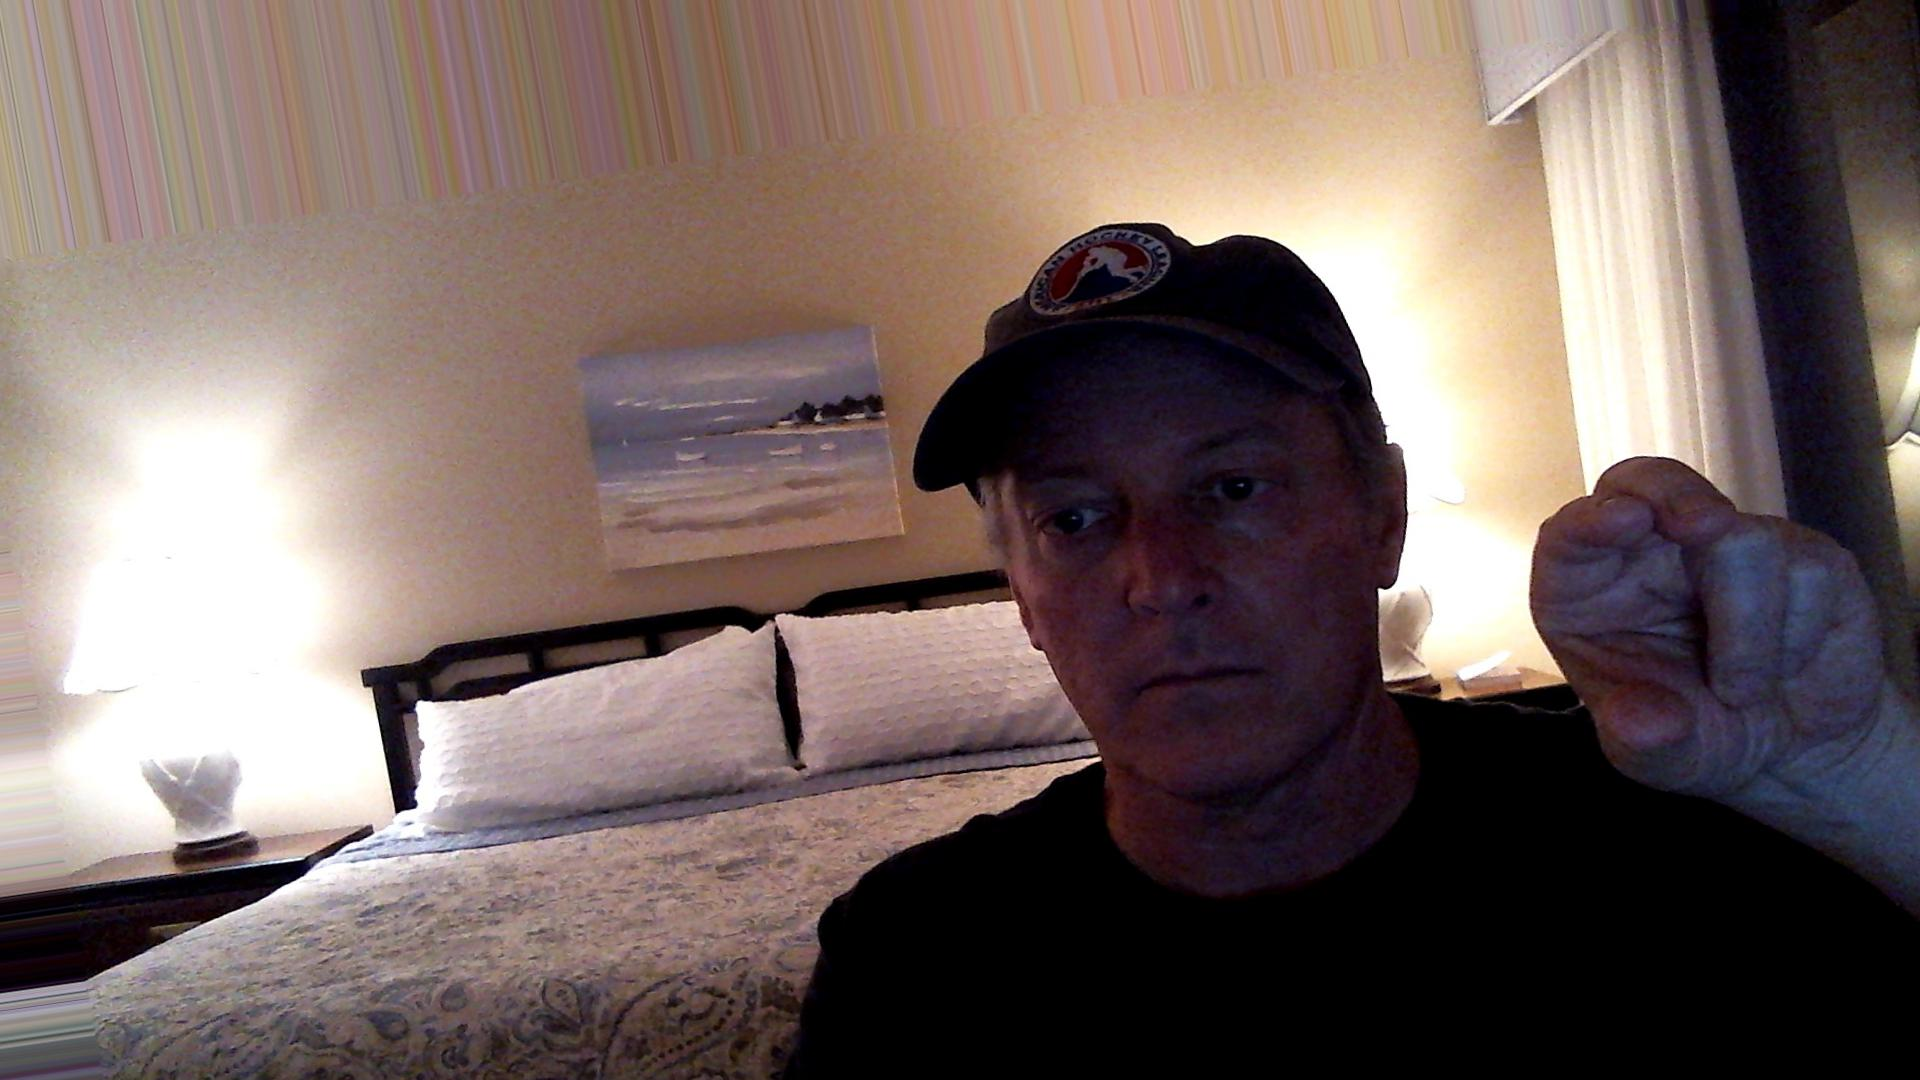No: (1485, 425, 1920, 856)
